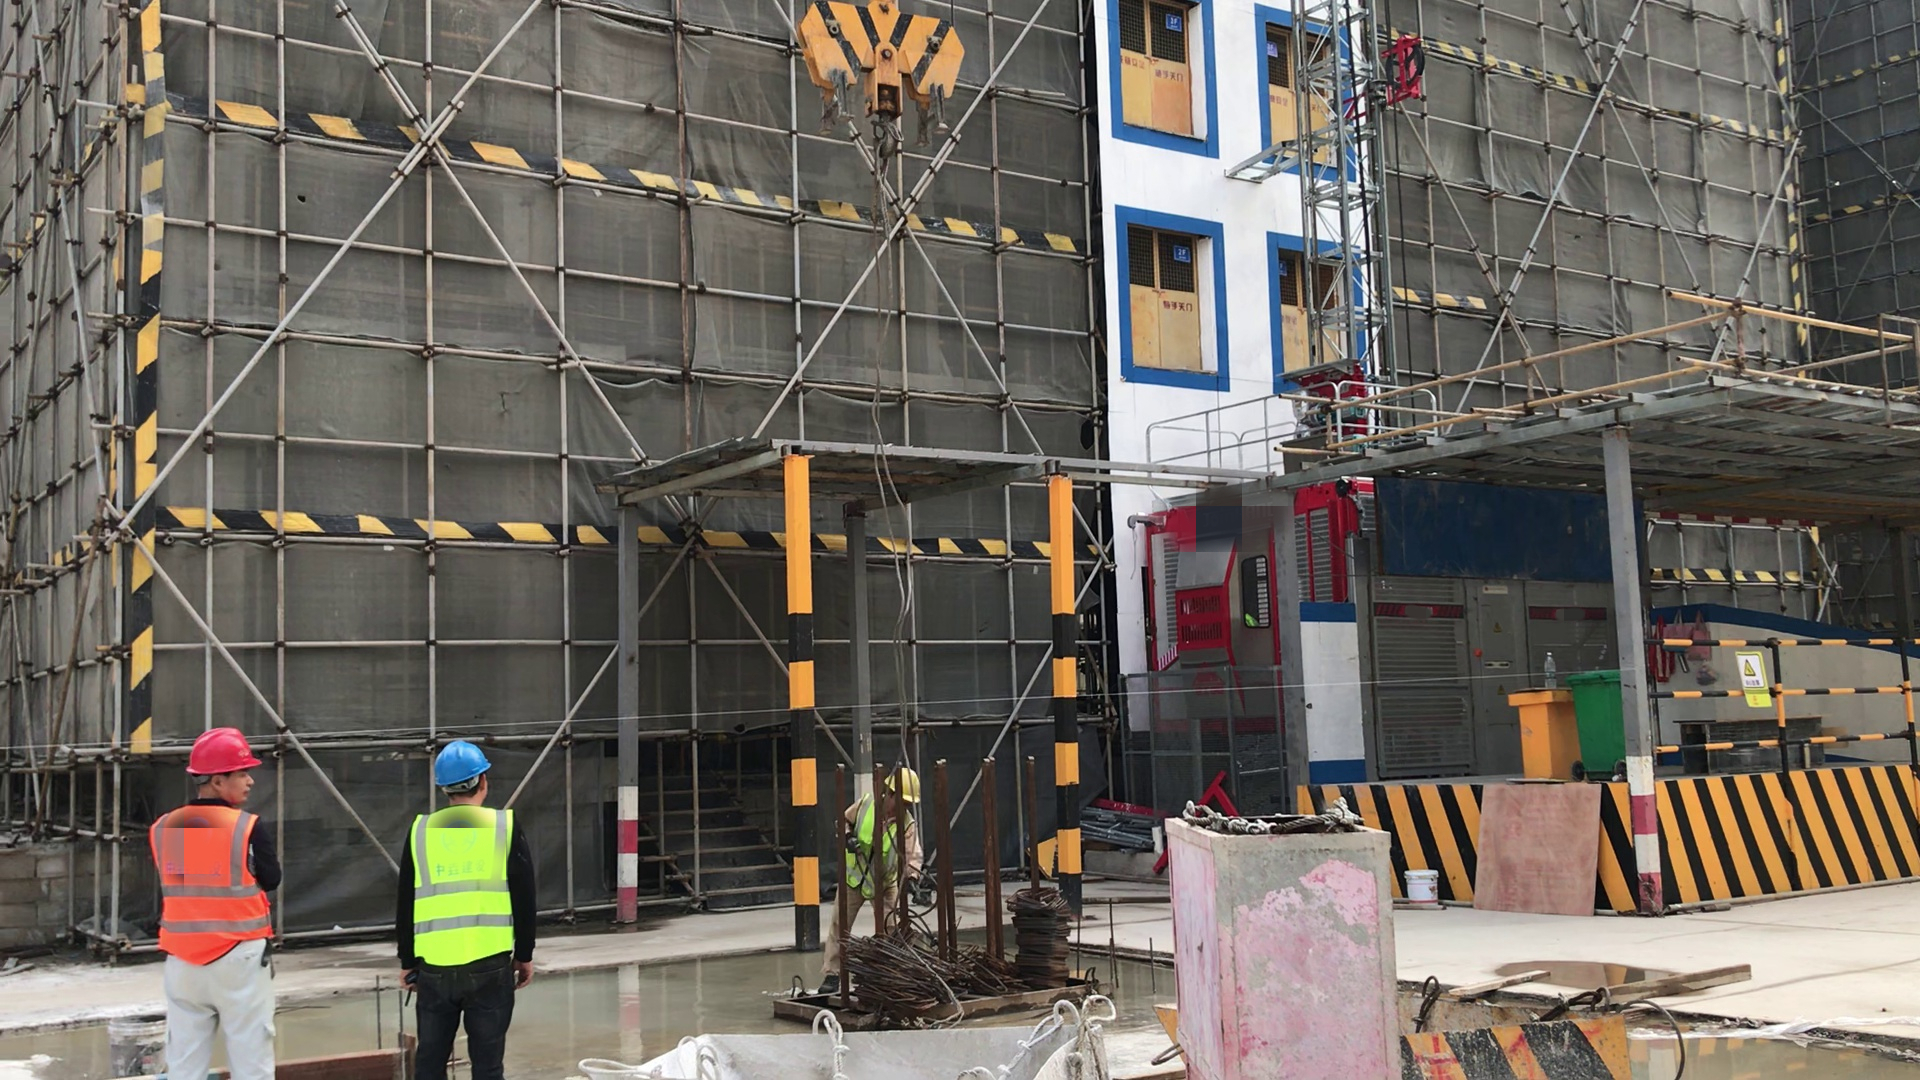ebox: (1511, 691, 1578, 774)
helmet: (186, 729, 262, 774), (433, 743, 492, 785), (886, 768, 921, 804)
hook: (797, 1, 965, 162)
hopper: (604, 1027, 1113, 1080), (1362, 989, 1633, 1080)
person: (151, 724, 281, 1080), (404, 747, 531, 1080), (820, 769, 923, 996)
slogan: (1733, 649, 1767, 711)
vest: (156, 807, 269, 964), (415, 810, 511, 961), (851, 796, 879, 901)
